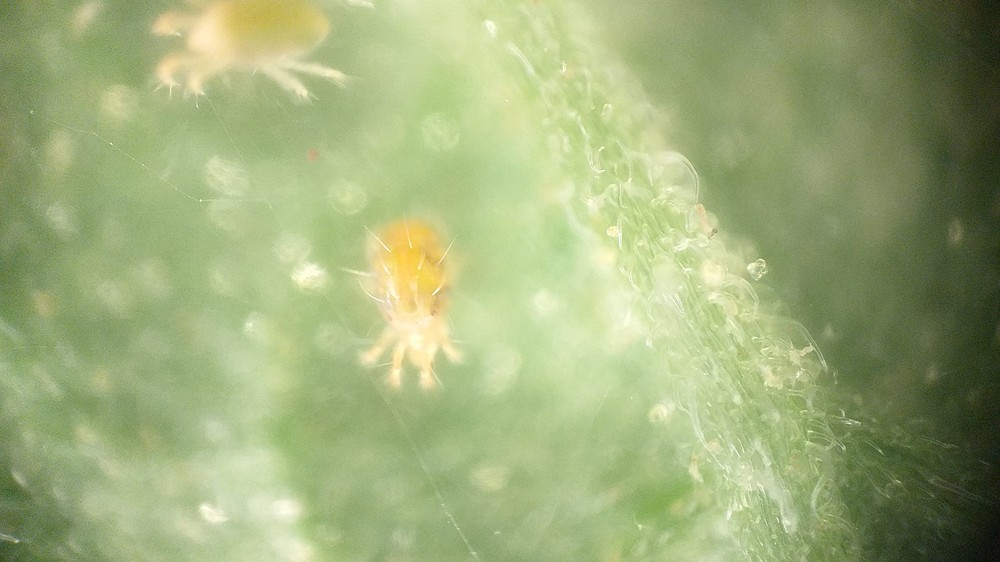Aracnido Rojo: (330, 204, 494, 395), (142, 1, 377, 129)
